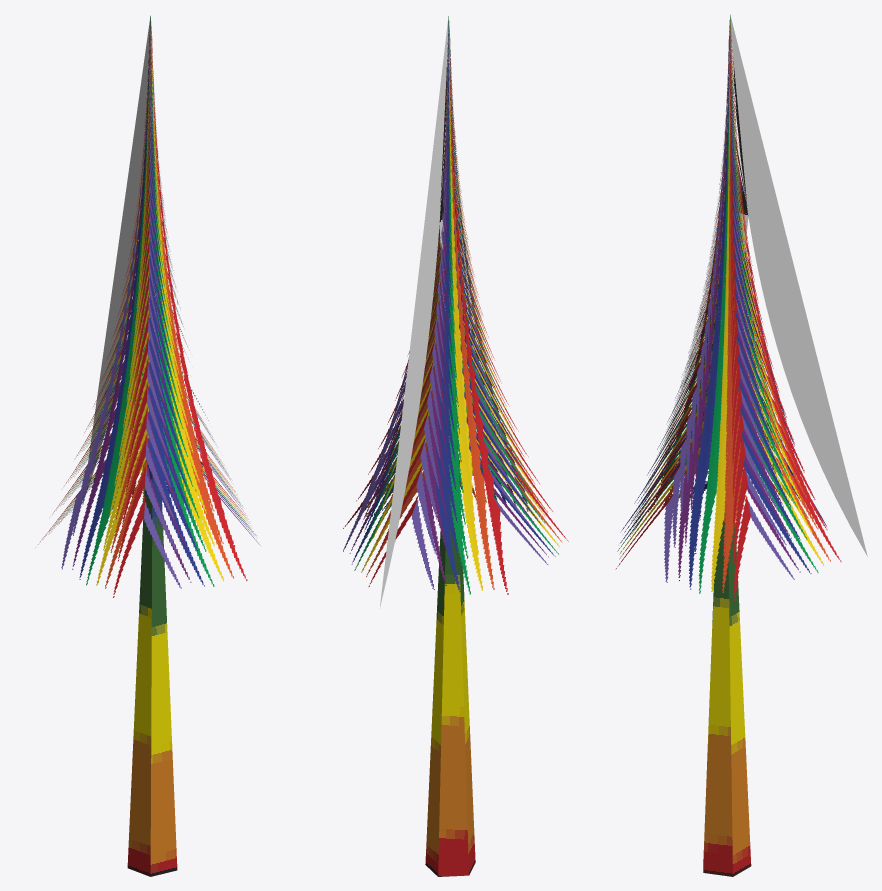
The model's file is Test_RainbowTree.glb.
The picture shows the model from 3 angles, left to right: view 1: azimuth 30°, elevation 25°; view 2: azimuth 150°, elevation 25°; view 3: azimuth 270°, elevation 25°; orthographic projection.
Parts seen in each view (by area): view 1: Test_rainbowTree; view 2: Test_rainbowTree; view 3: Test_rainbowTree.
Boxes of the visible parts, bbox=[...] form: Test_rainbowTree: bbox=[38, 15, 260, 876]; Test_rainbowTree: bbox=[343, 16, 568, 876]; Test_rainbowTree: bbox=[615, 14, 867, 876].
Bounding box in the file's own units: 5.13 × 17.79 × 4.88.
2 materials, 2 textured.
